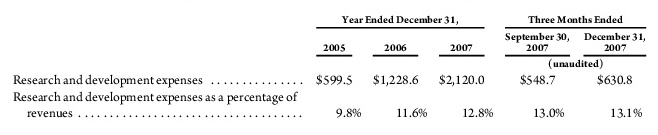table: (0, 0, 658, 135)
